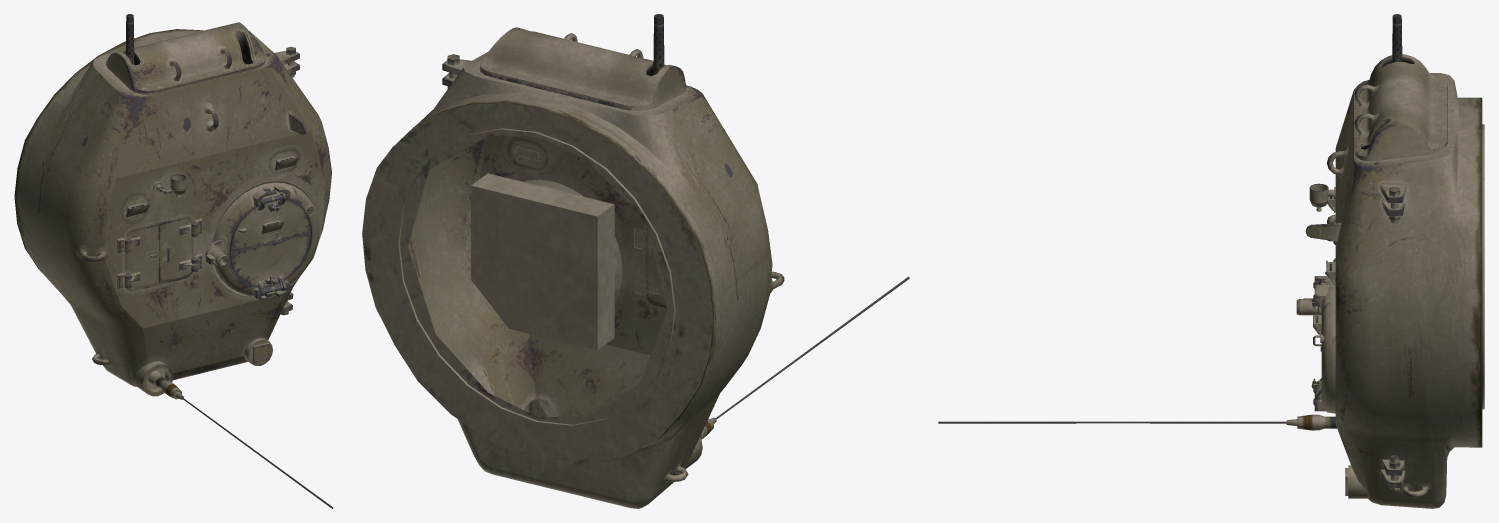
Rendered from Turret_01.glb.
The picture shows the model from 3 angles, left to right: view 1: azimuth 30°, elevation 25°; view 2: azimuth 150°, elevation 25°; view 3: azimuth 270°, elevation 25°; orthographic projection. The views are drawn at different scales.
Parts seen in each view (by area): view 1: set_0_group_0; view 2: set_0_group_0; view 3: set_0_group_0.
Boxes of the visible parts, left/top/right/bottom form: set_0_group_0: left=14, top=14, right=333, bottom=508; set_0_group_0: left=362, top=14, right=909, bottom=508; set_0_group_0: left=938, top=14, right=1484, bottom=508.
Bounding box in the file's own units: 2.04 × 2.64 × 3.06.
Materials: 1 (1 with a texture image).
